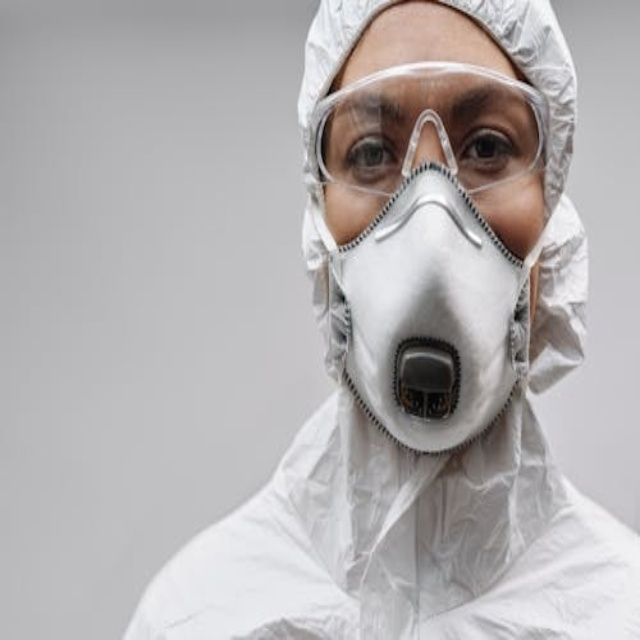Gafas: (308, 60, 552, 201)
Mascara: (326, 132, 534, 457)
